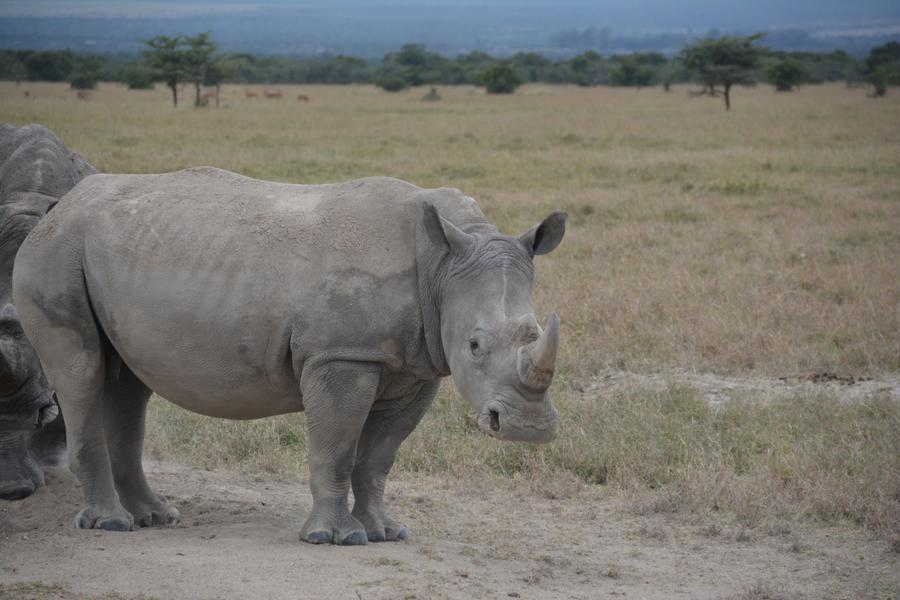rhino: (69, 183, 530, 495)
